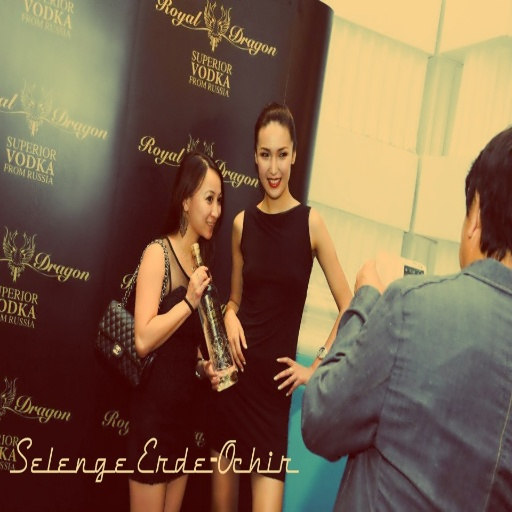hand: (274, 358, 315, 406), (222, 310, 248, 373), (184, 264, 210, 310), (352, 257, 382, 291)
